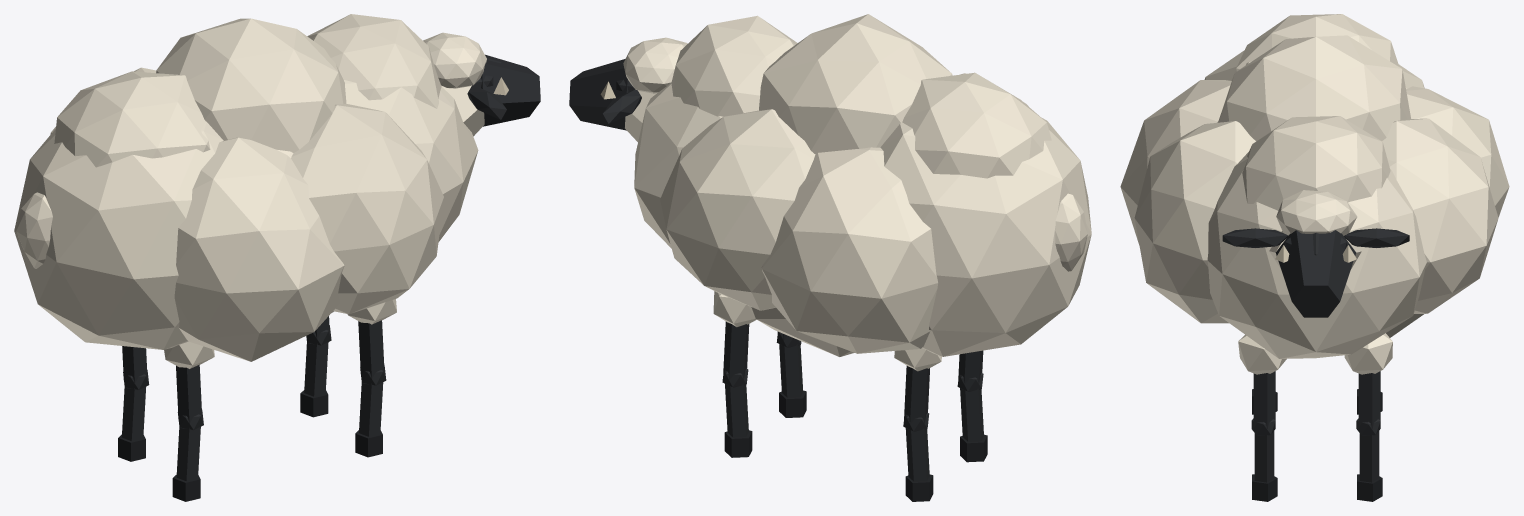
Rendered from far_1.glb.
3 renders of one model, left to right at view 1: azimuth 30°, elevation 25°; view 2: azimuth 150°, elevation 25°; view 3: azimuth 270°, elevation 25°, orthographic. The views are drawn at different scales.
Visible parts, largest first — view 1: far_1; view 2: far_1; view 3: far_1.
Boxes of the visible parts, x1,y1,x2,y2 form: far_1: [14, 14, 540, 501]; far_1: [569, 14, 1091, 501]; far_1: [1120, 14, 1509, 501].
Size of the model in its own units: 1.4 by 1.14 by 0.9642.
